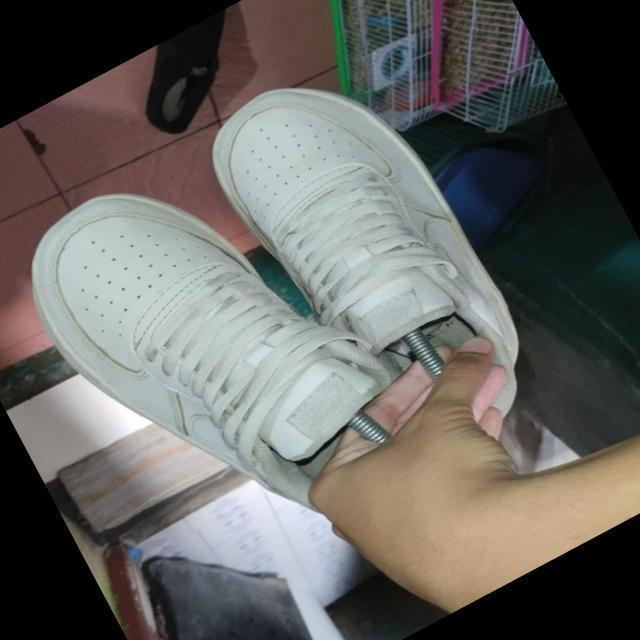nike fake air force: (0, 111, 441, 602), (185, 40, 546, 478)
